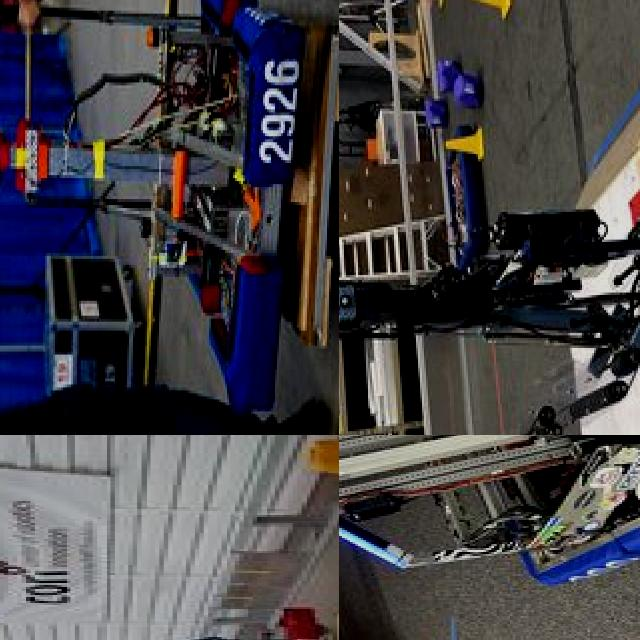FRC-Robots: (0, 0, 323, 374), (339, 55, 640, 435), (339, 435, 640, 630), (62, 596, 339, 640)
